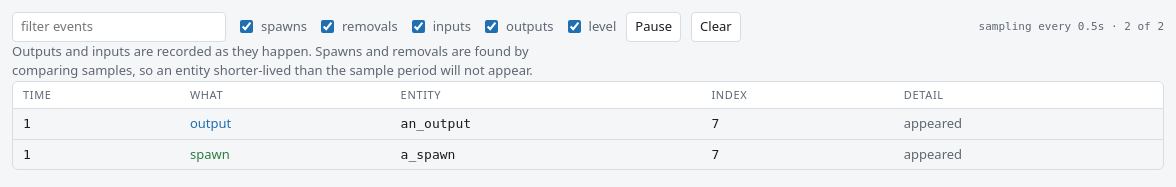
Test case: filtering › can hide a kind
Click the checkbox labelled "spawns": (246, 27) [240, 20, 253, 33]
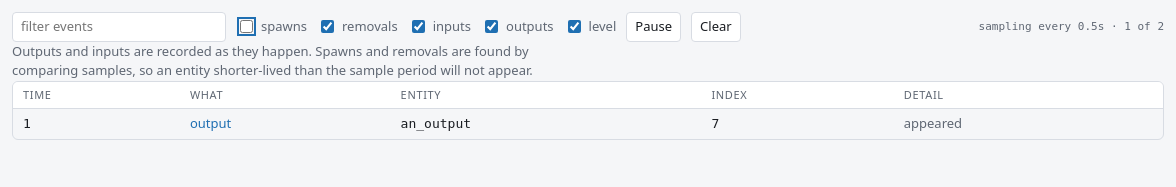
expect the text "an_output" is shown: met, box [391, 108, 701, 138]
expect the text "a_spawn" is gone: met
